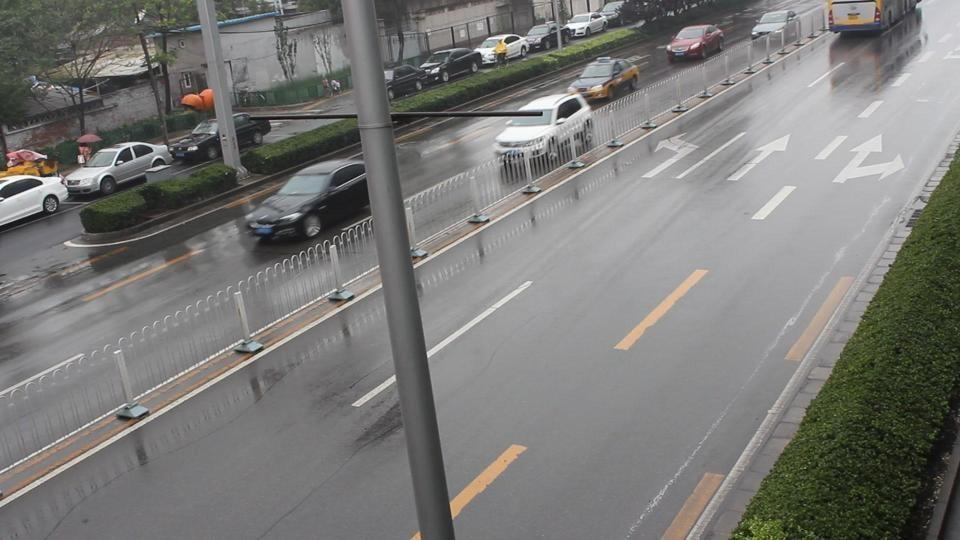car: (242, 158, 371, 242), (62, 141, 174, 199), (493, 92, 594, 154), (172, 113, 271, 159), (1, 173, 69, 230), (568, 56, 642, 101), (665, 24, 725, 62), (419, 48, 484, 82), (383, 64, 437, 98), (750, 8, 800, 44), (474, 34, 528, 65), (525, 22, 566, 53), (562, 12, 608, 39), (4, 148, 51, 170)
